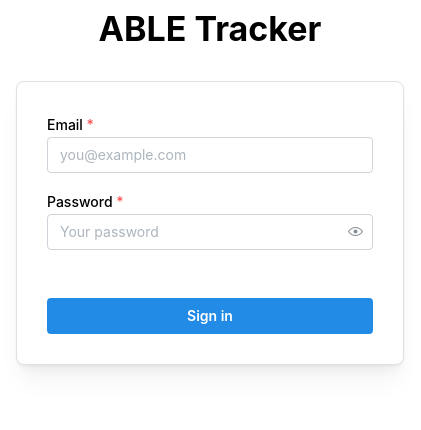
Scenario: Login Page › shows validation error when email is empty on submit
Click the button "Sign in" at (210, 316), box [47,298,373,334]
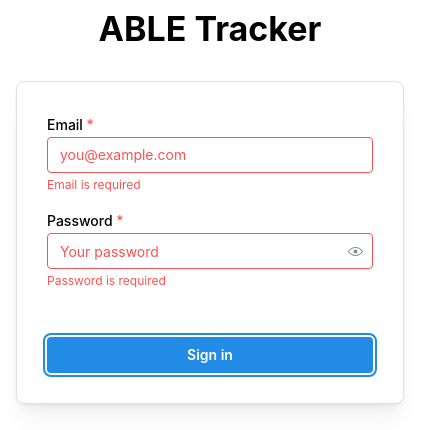
Result: the text "Email is required" is shown at [47,177,141,192]
